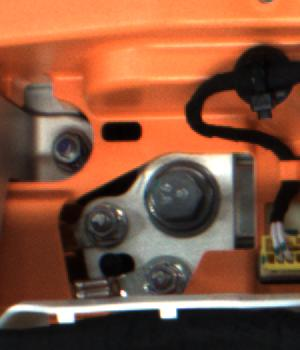nut_b: (143, 152, 222, 246)
